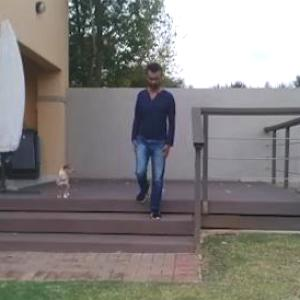follow: (136, 62, 176, 222)
